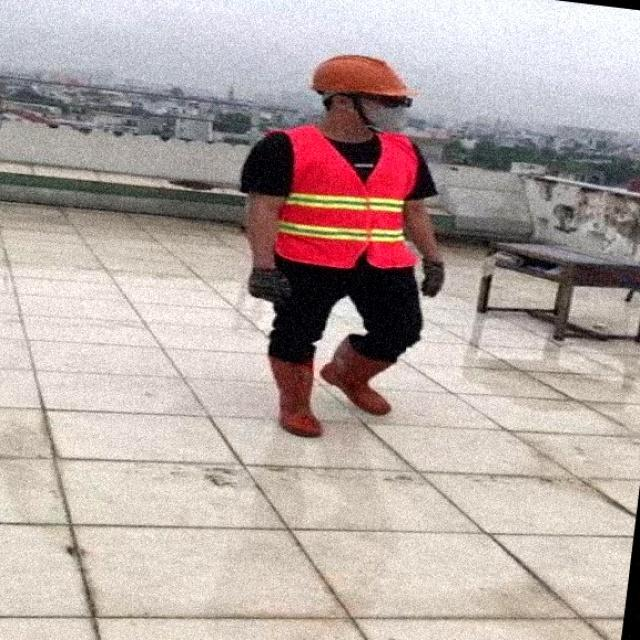helmet: (303, 56, 418, 107)
safety_vest: (274, 123, 421, 263)
